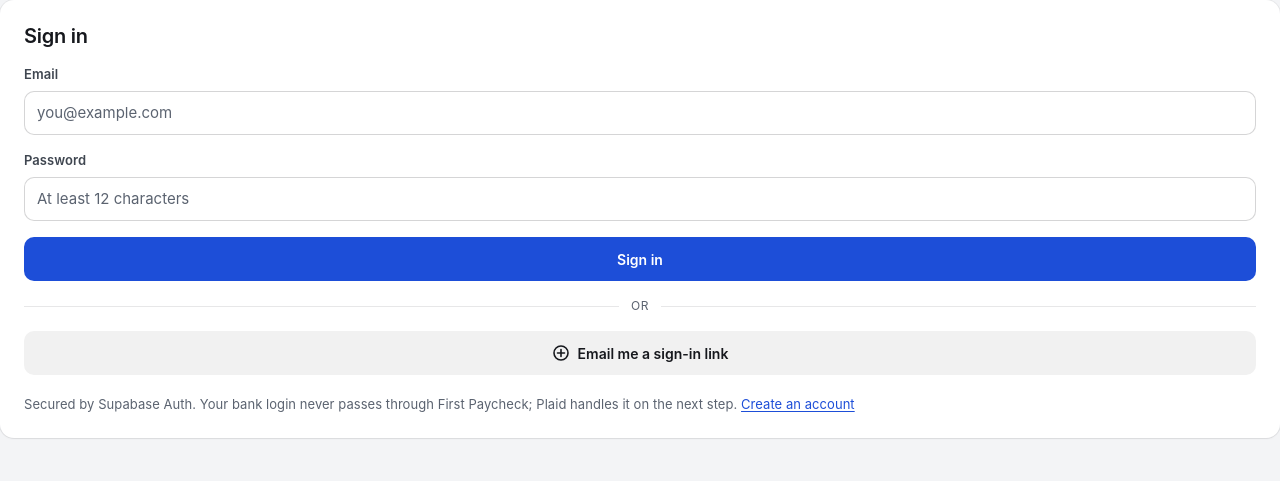
AuthForm, sign in › checks the email before sending a link
Click the button "Email me a sign-in link".
click(640, 353)  # box 24,331 -> 1256,375
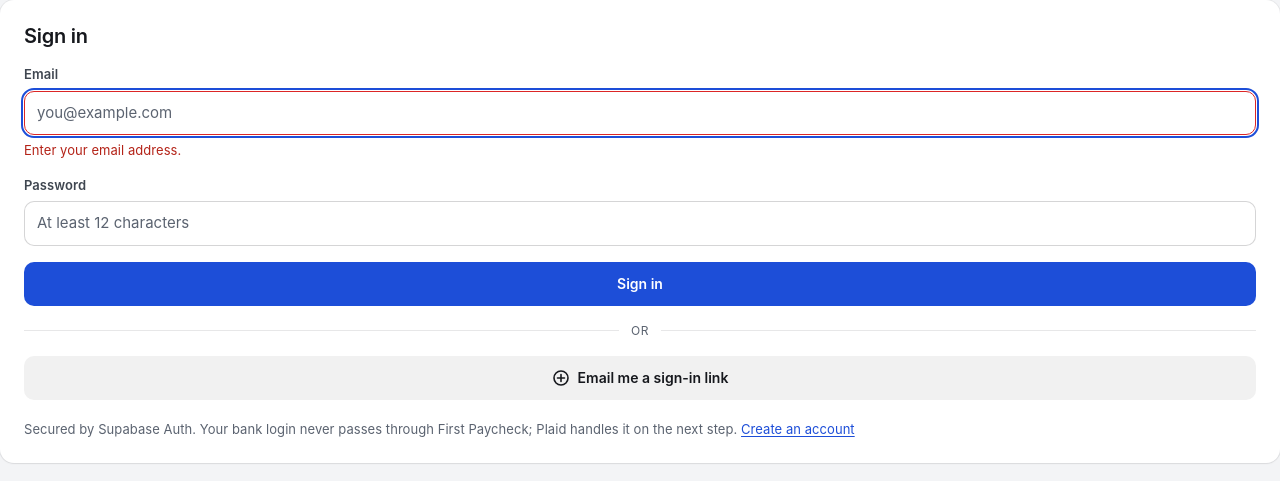
Check: the text "Enter your email address." is shown, box 24,142 -> 181,158
